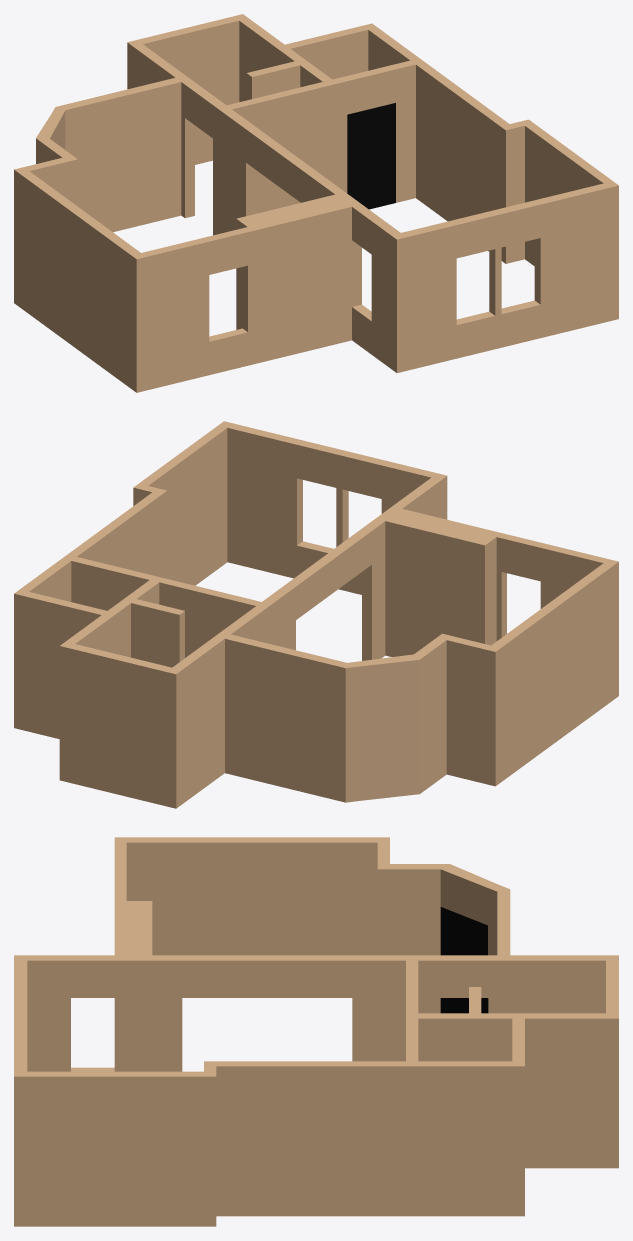
File: walls 1.fbx
3 renders of one model, top to bottom at view 1: azimuth 30°, elevation 25°; view 2: azimuth 150°, elevation 25°; view 3: azimuth 270°, elevation 25°, orthographic. The views are drawn at different scales.
Visible parts, largest first — view 1: Box038; view 2: Box038; view 3: Box038.
Part boxes in pixels (x1,y1,x2,y2): Box038: (14, 14, 618, 392); Box038: (14, 421, 618, 808); Box038: (14, 837, 618, 1226).
Size of the model in its own units: 162 by 47.24 by 173.
